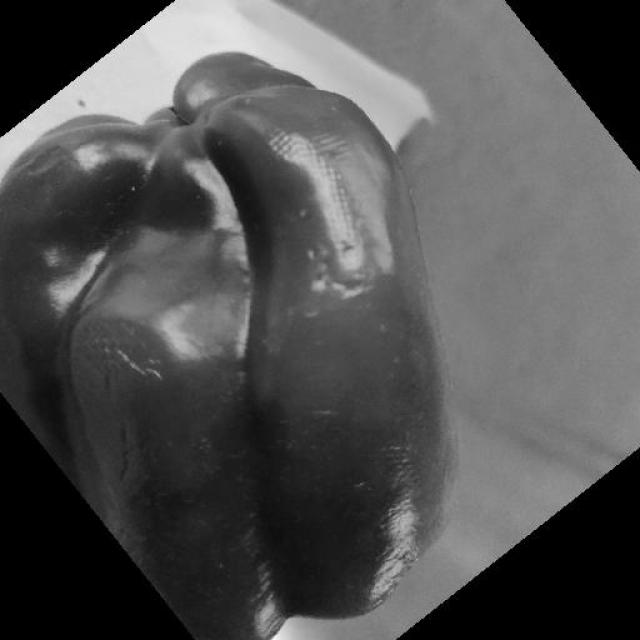Stale_Capsicum: (182, 396, 480, 640)
